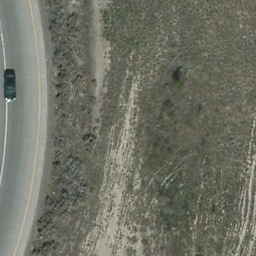car: (5, 68, 18, 104)
